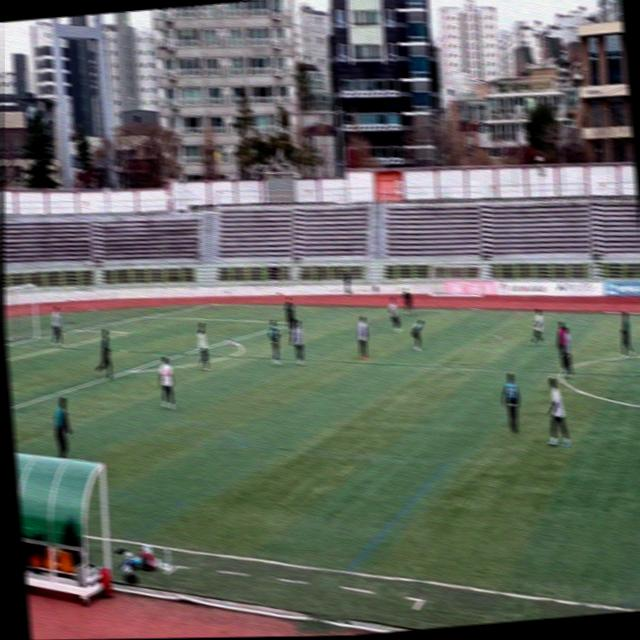bigarea_top_outter: (141, 310, 154, 323)
bottom_arc_area_intersection: (123, 363, 136, 380)
corner: (204, 297, 220, 311)
smallarea_top_inner: (120, 324, 133, 339)
smallarea_top_outter: (72, 321, 84, 336)
top_arc_area_intersection: (224, 334, 238, 346)
